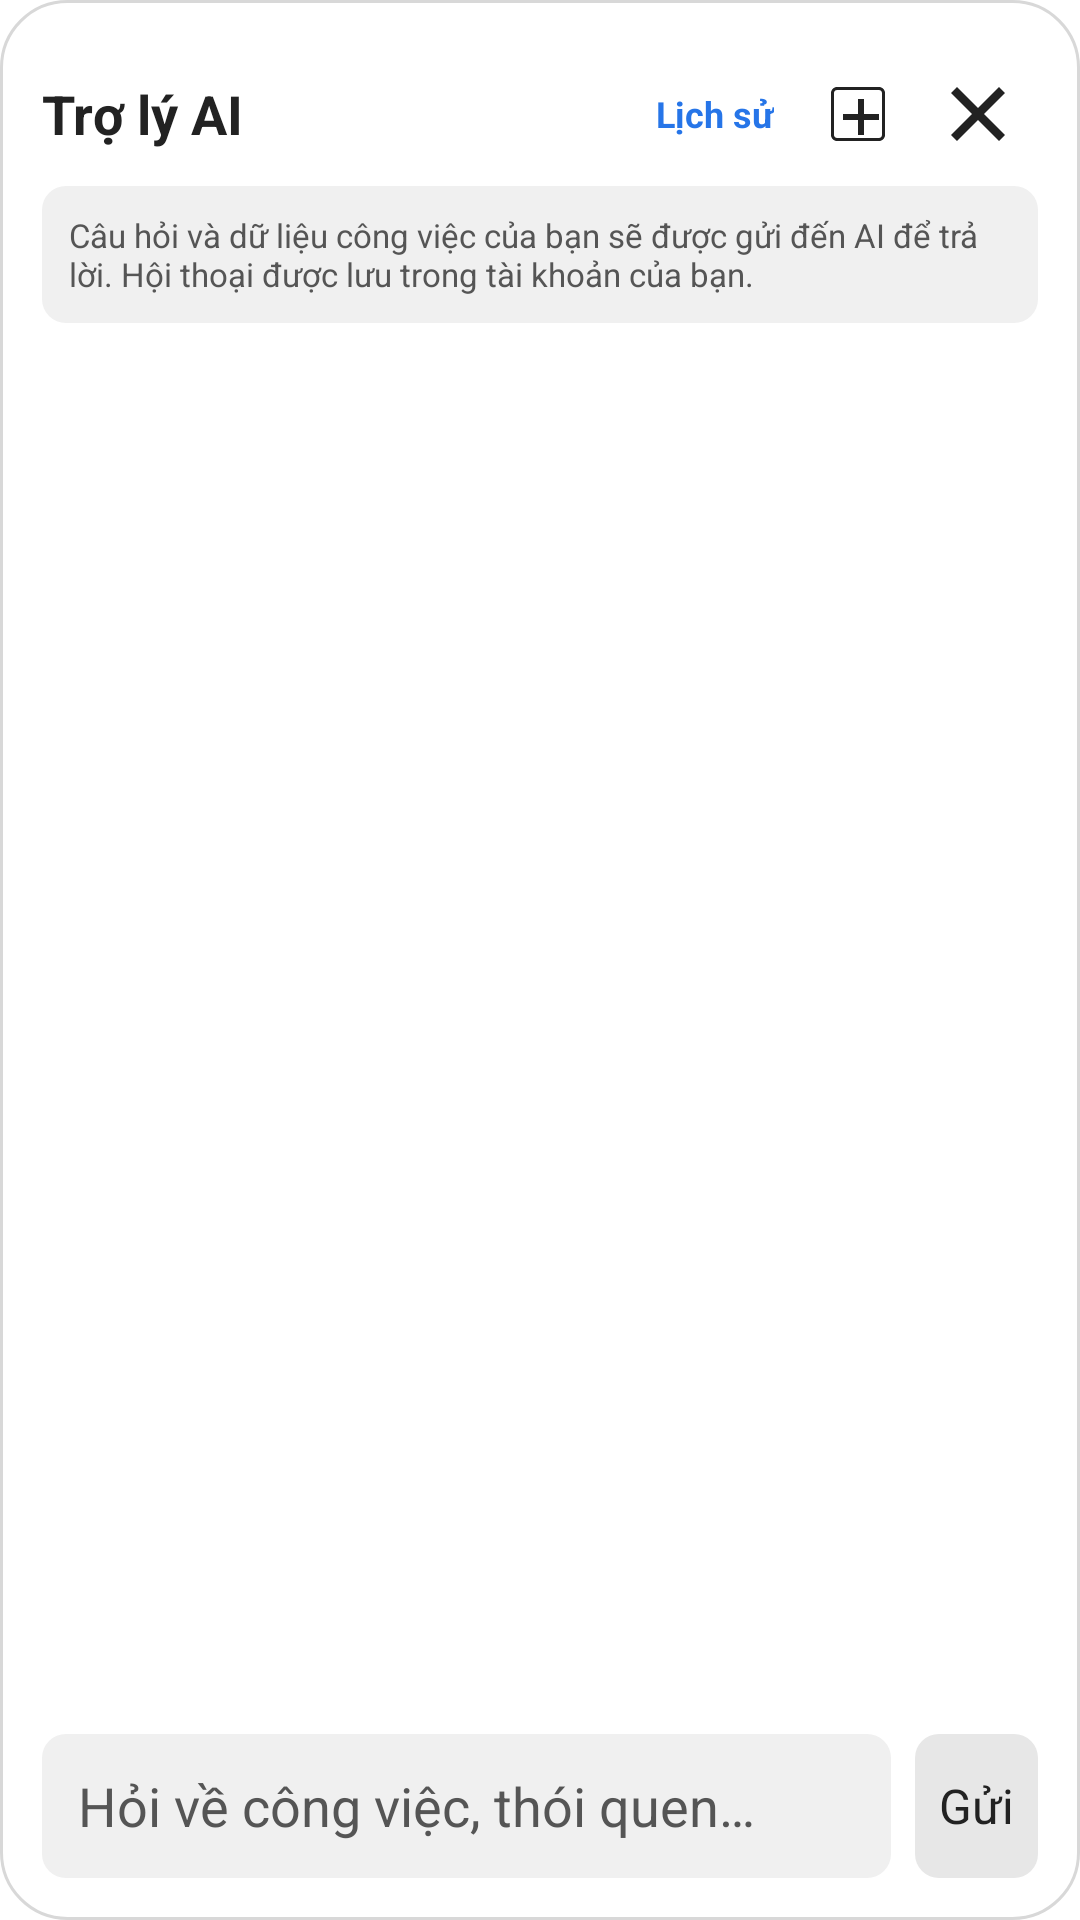

Named icons in this screenshot (1080px×1920px) and their centers, (x=x, y=y):
Cuộc trò chuyện mới: (x=858, y=114)
Đóng: (x=978, y=114)
